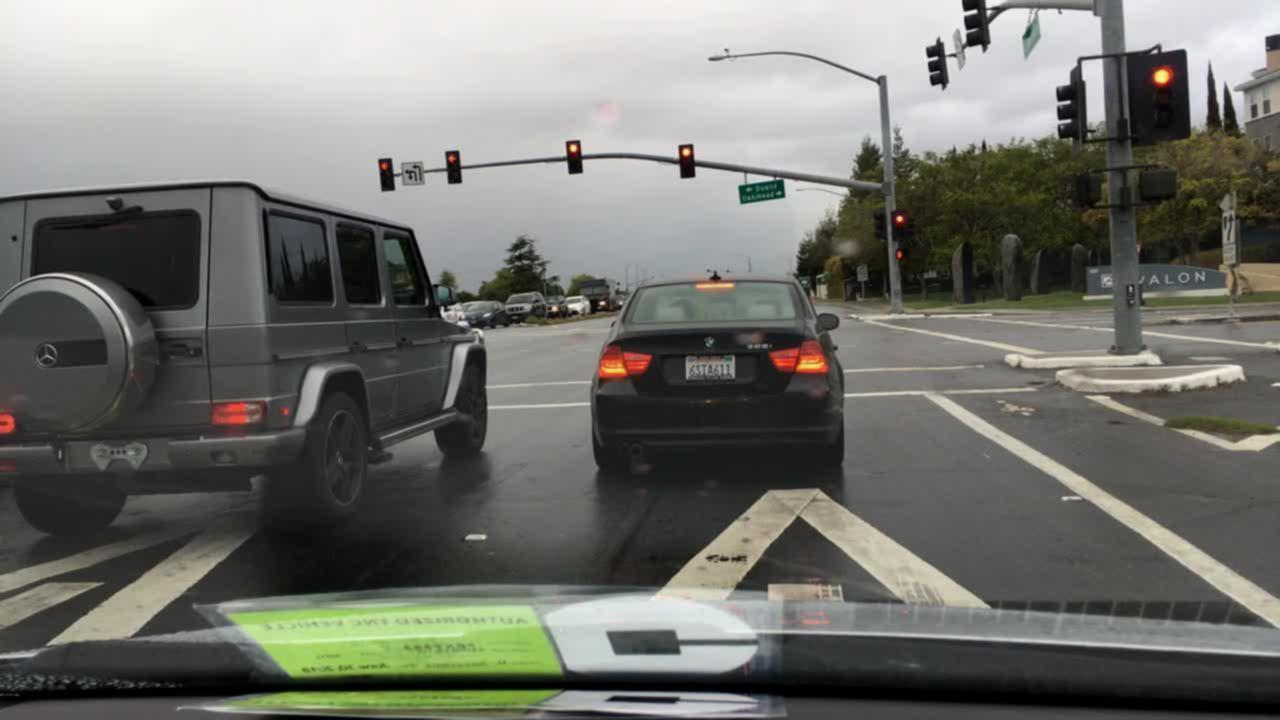Mercedes: (30, 338, 66, 372)
bmw: (692, 327, 725, 354)
